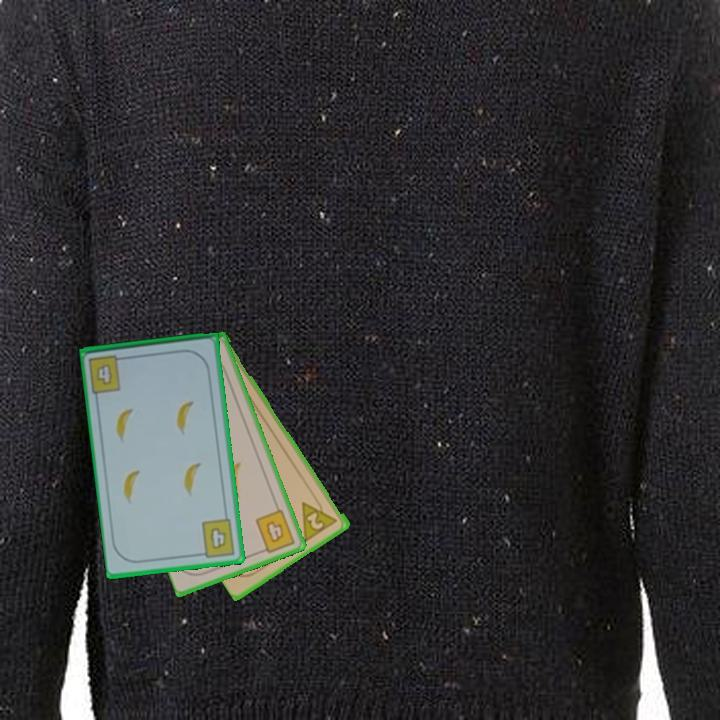2p: (298, 493, 341, 544)
4b: (252, 506, 298, 556), (85, 351, 130, 396), (195, 515, 238, 560)
